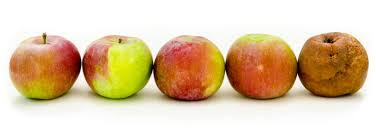apple: (156, 35, 224, 102), (9, 33, 78, 98), (231, 35, 297, 100), (87, 38, 149, 104)
damaged_apple: (301, 34, 370, 99)
